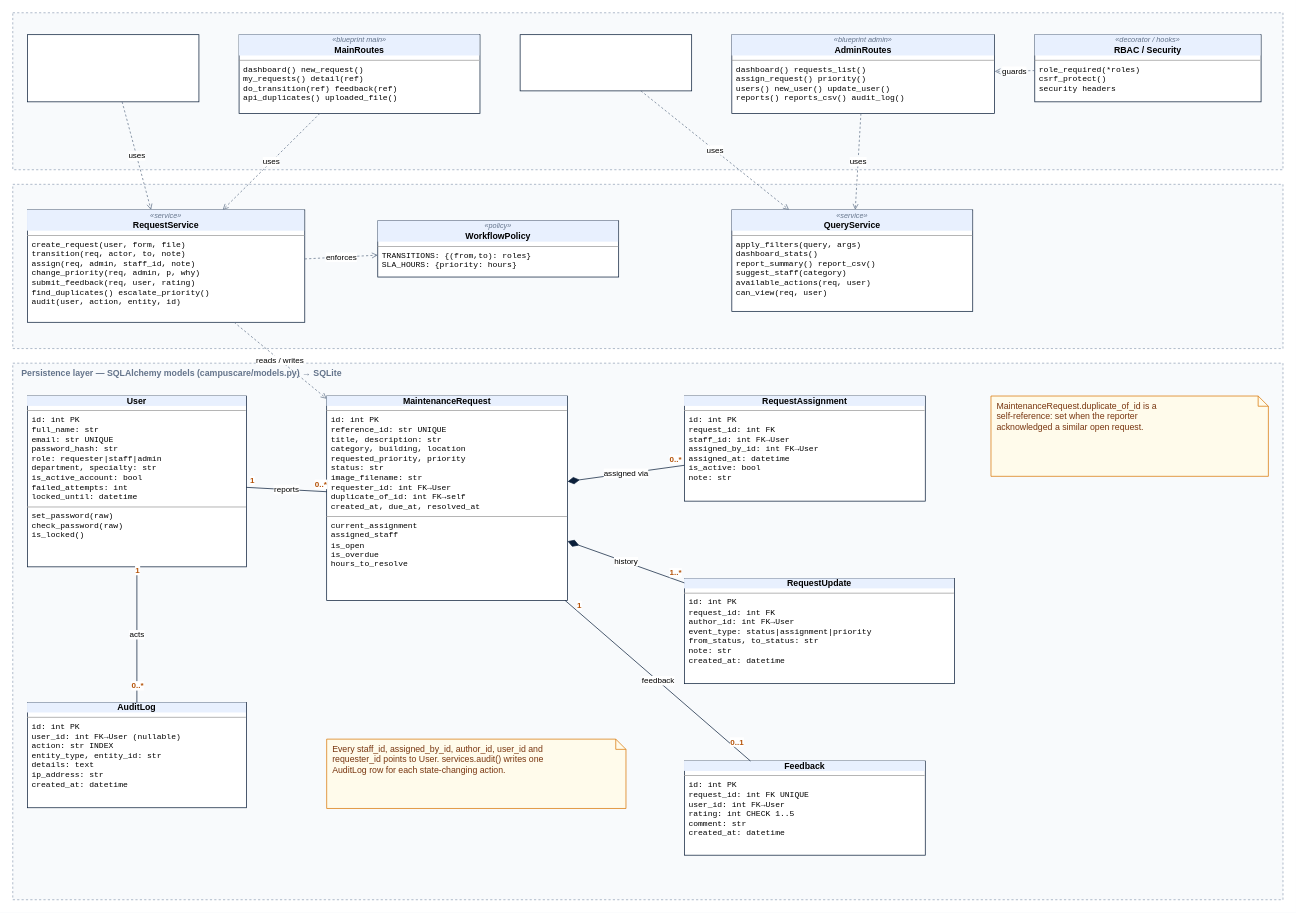
This 1296x913 diagram has some shape labels left out. Each missing label, with the box of its shape:
Business layer — campuscare/services.py (framework-independent rules): (12, 184, 1283, 349)
Presentation layer — Flask blueprints (campuscare/routes): (12, 12, 1283, 170)
«blueprint auth» AuthRoutes login() register() logout(): (27, 34, 199, 102)
«blueprint staff» StaffRoutes dashboard() history(): (519, 34, 692, 91)
